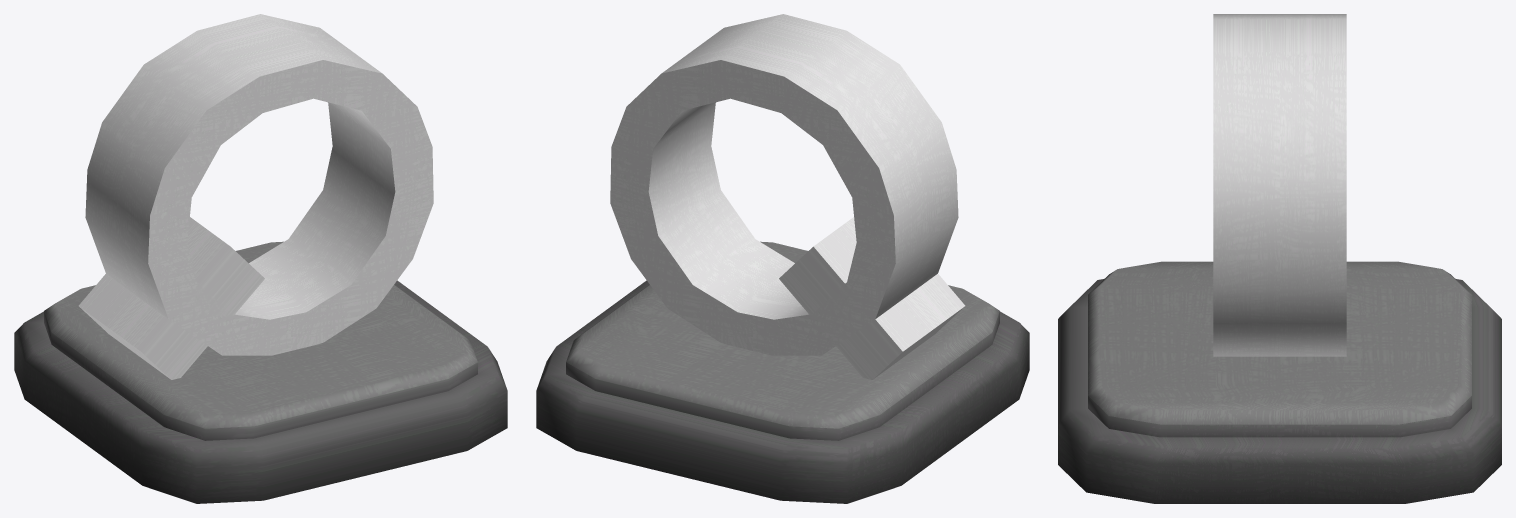
File: Statue Letter Q Hand.fbx
3 views of the same model, side by side, from view 1: azimuth 30°, elevation 25°; view 2: azimuth 150°, elevation 25°; view 3: azimuth 270°, elevation 25° (orthographic). The views are drawn at different scales.
Visible parts, largest first — view 1: Letter, StatueBase (1); view 2: Letter, StatueBase (1); view 3: StatueBase (1), Letter.
Boxes of the visible parts, box(x1,y1,x2,y2) form: Letter: box(78, 14, 433, 379); StatueBase (1): box(14, 241, 507, 503); Letter: box(610, 14, 965, 379); StatueBase (1): box(536, 241, 1029, 503); StatueBase (1): box(1058, 261, 1501, 503); Letter: box(1213, 14, 1346, 356).
Size of the model in its own units: 0.9118 by 0.8712 by 0.9299.
